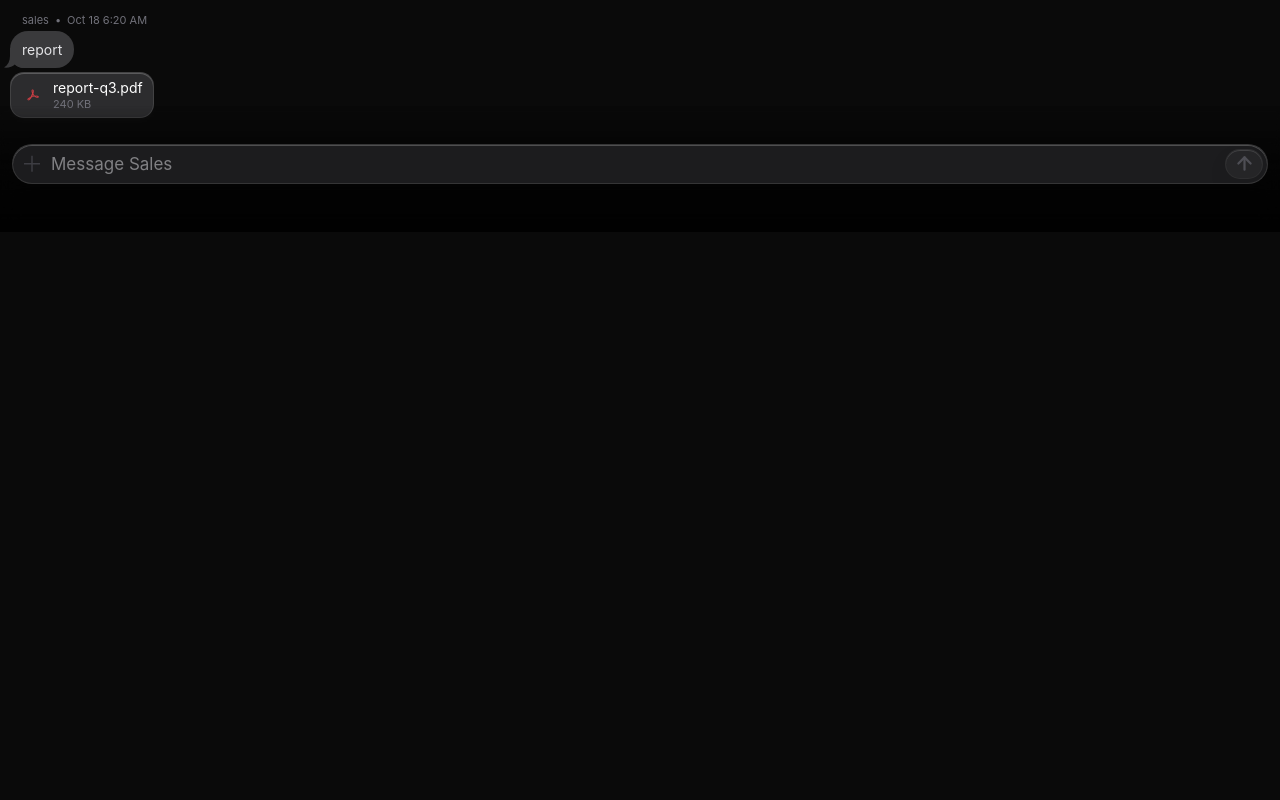
open › pdf: preview bytes go to PdfView
Click the button with test id "thread-file" at [82, 94], box left=10, top=72, right=154, bottom=118
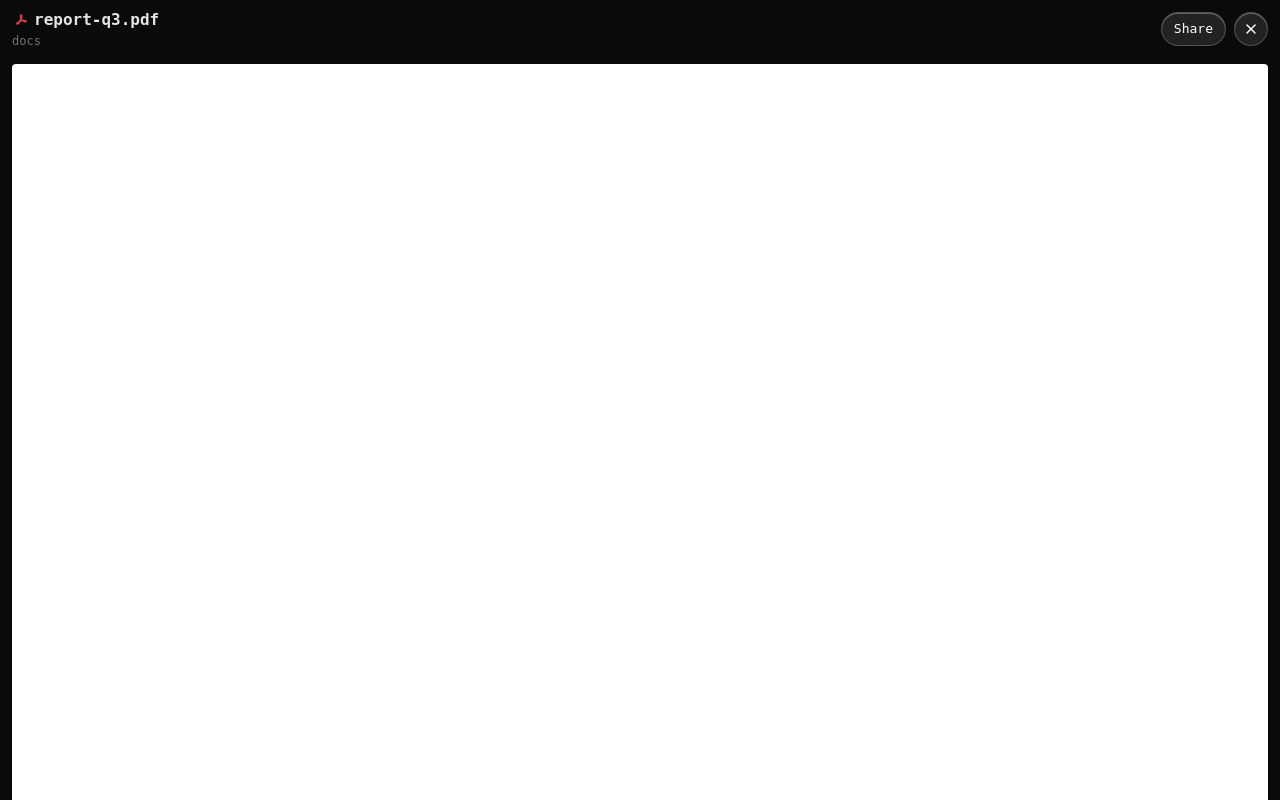
Expected: the element with test id "file-pdf" is shown
